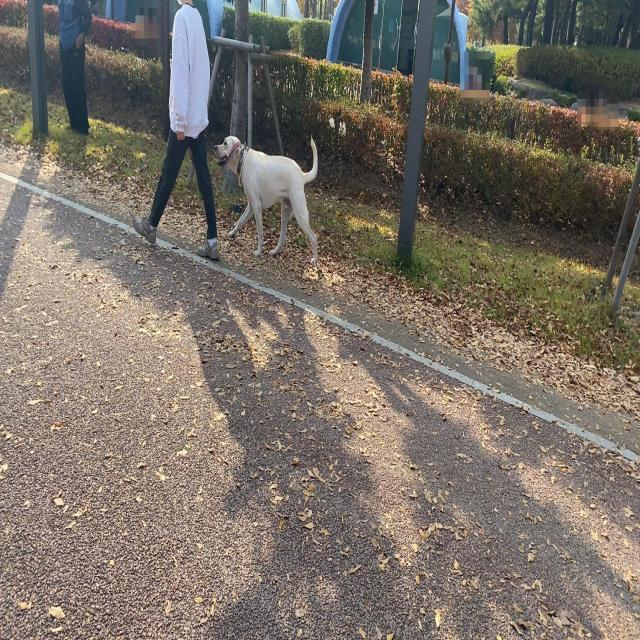Leashed_Dog: (197, 134, 319, 266)
